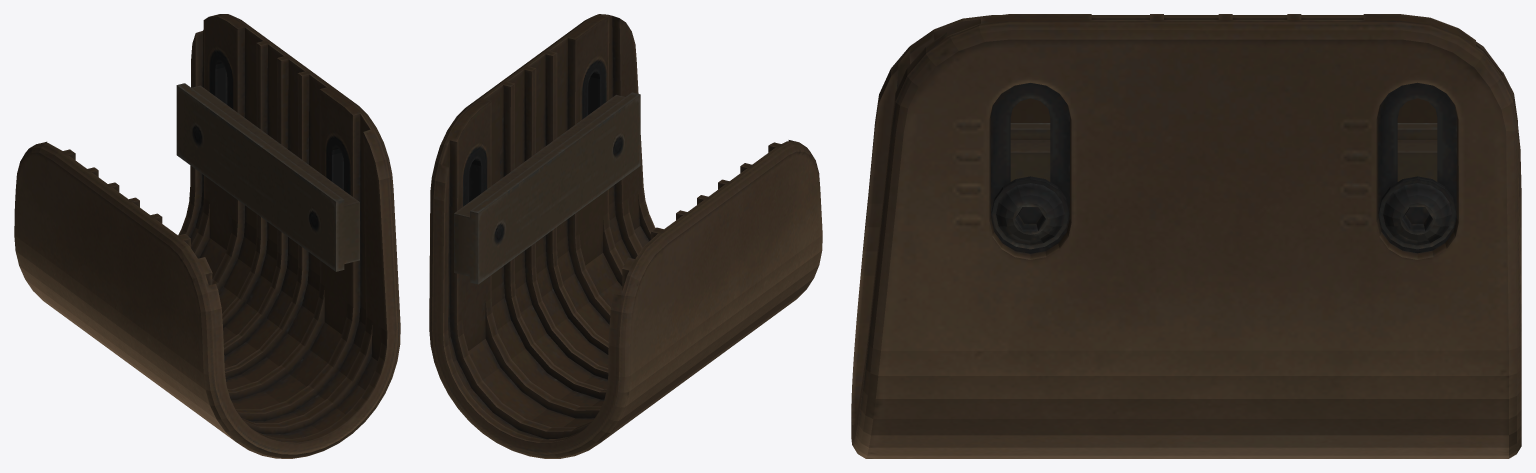
3 renders of one model, left to right at view 1: azimuth 30°, elevation 25°; view 2: azimuth 150°, elevation 25°; view 3: azimuth 270°, elevation 25°, orthographic. The views are drawn at different scales.
Parts seen in each view (by area): view 1: TW_61715e7e67085e45ef140b33_PZ_Import; view 2: TW_61715e7e67085e45ef140b33_PZ_Import; view 3: TW_61715e7e67085e45ef140b33_PZ_Import.
Part boxes in pixels (bbox=[...]): TW_61715e7e67085e45ef140b33_PZ_Import: bbox=[14, 14, 400, 458]; TW_61715e7e67085e45ef140b33_PZ_Import: bbox=[429, 14, 822, 458]; TW_61715e7e67085e45ef140b33_PZ_Import: bbox=[851, 14, 1521, 458].
Size of the model in its own units: 0.0317 by 0.0549 by 0.0446.
1 material, 1 textured.
